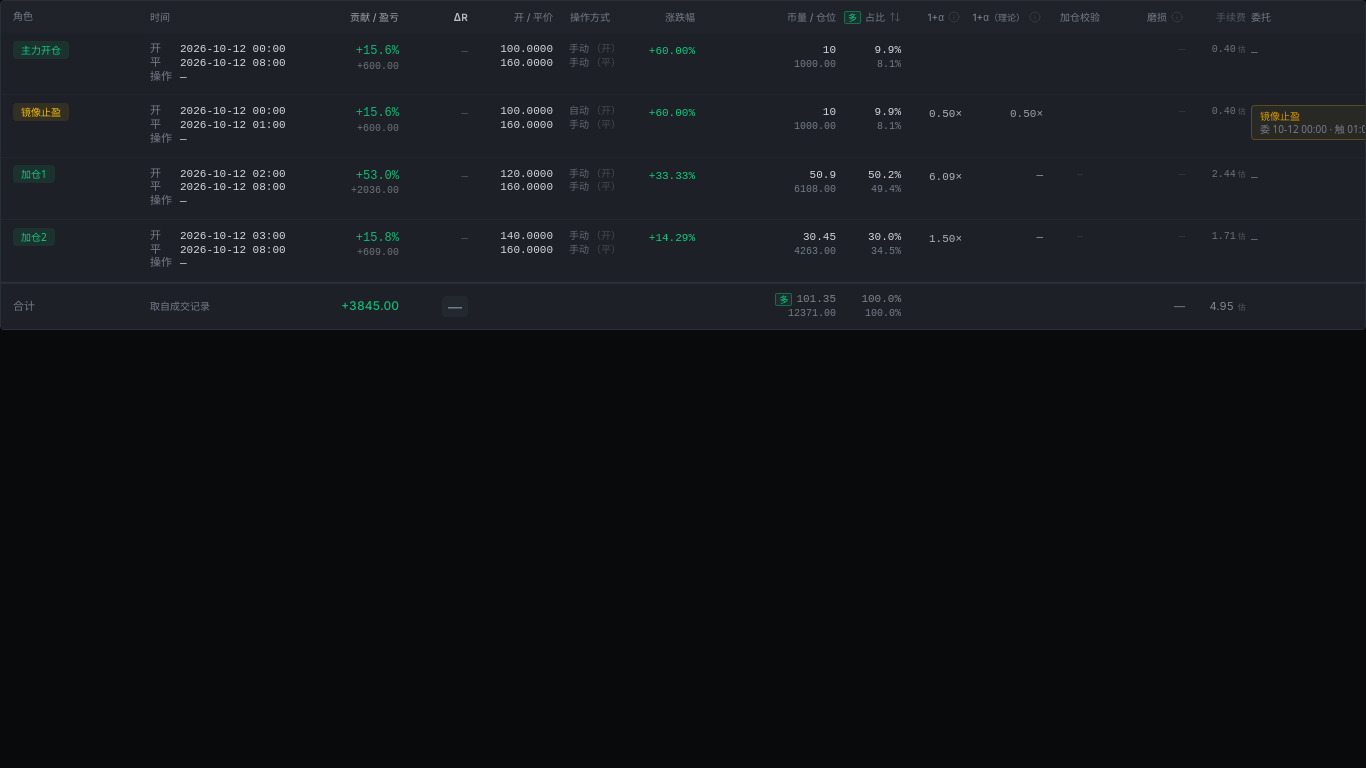
Test case: Legs per-add geometric factor › clicking each actual factor opens its own substituted process; close and sorting preserve row identity
What coordinates should you click on to do the following:
click the button "6.09×"
I would click on:
 (934, 177)
Its box is 906,168 -> 962,187.
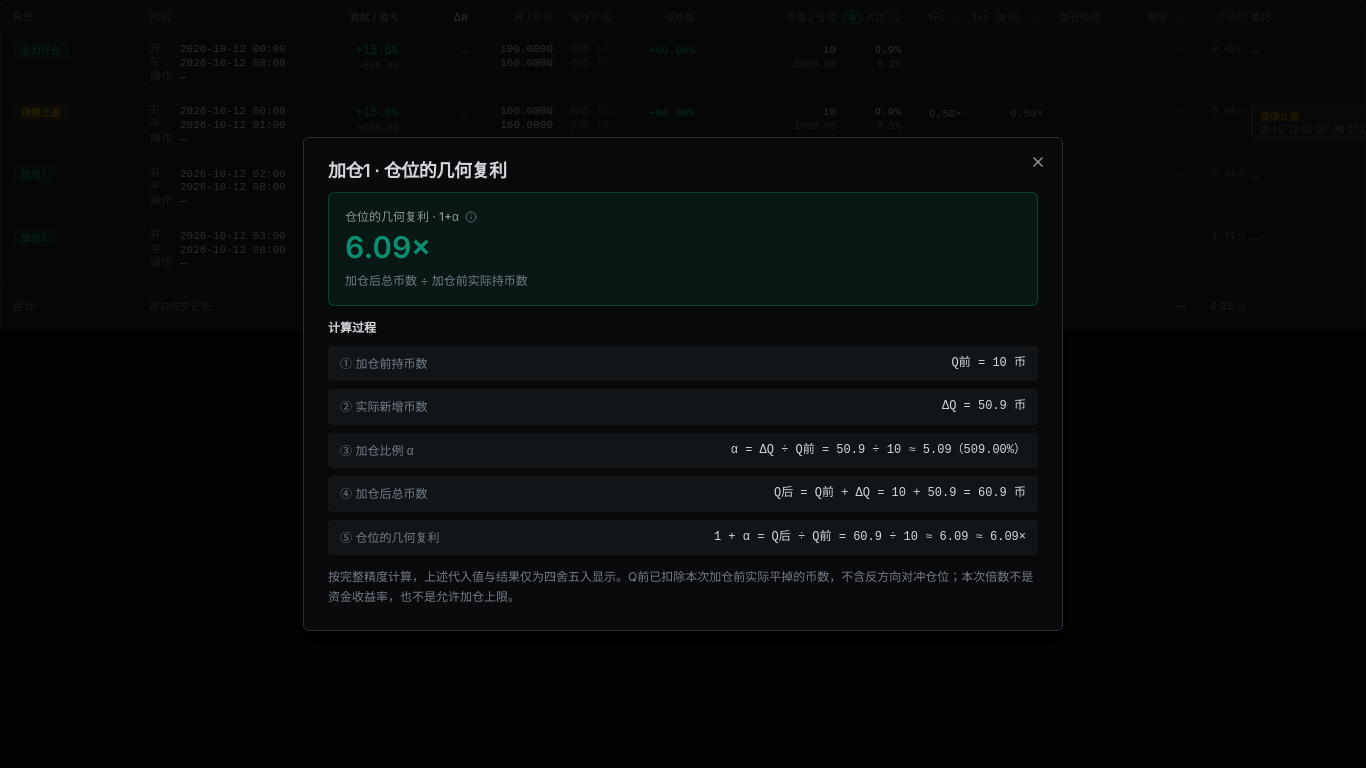
Expected: the heading reads "加仓1 · 仓位的几何复利", 328,160 -> 507,181
Expected: the dialog with test id "leg-geometric-factor-detail-dialog" shows "Q前 = 10 币", 952,356 -> 1026,370
Expected: the dialog with test id "leg-geometric-factor-detail-dialog" shows "ΔQ = 50.9 币", 942,399 -> 1026,413
What coordinates should you click on to do the following:
click the button named "关闭"
I would click on:
 (1038, 162)
Its box is 1030,154 -> 1046,170.
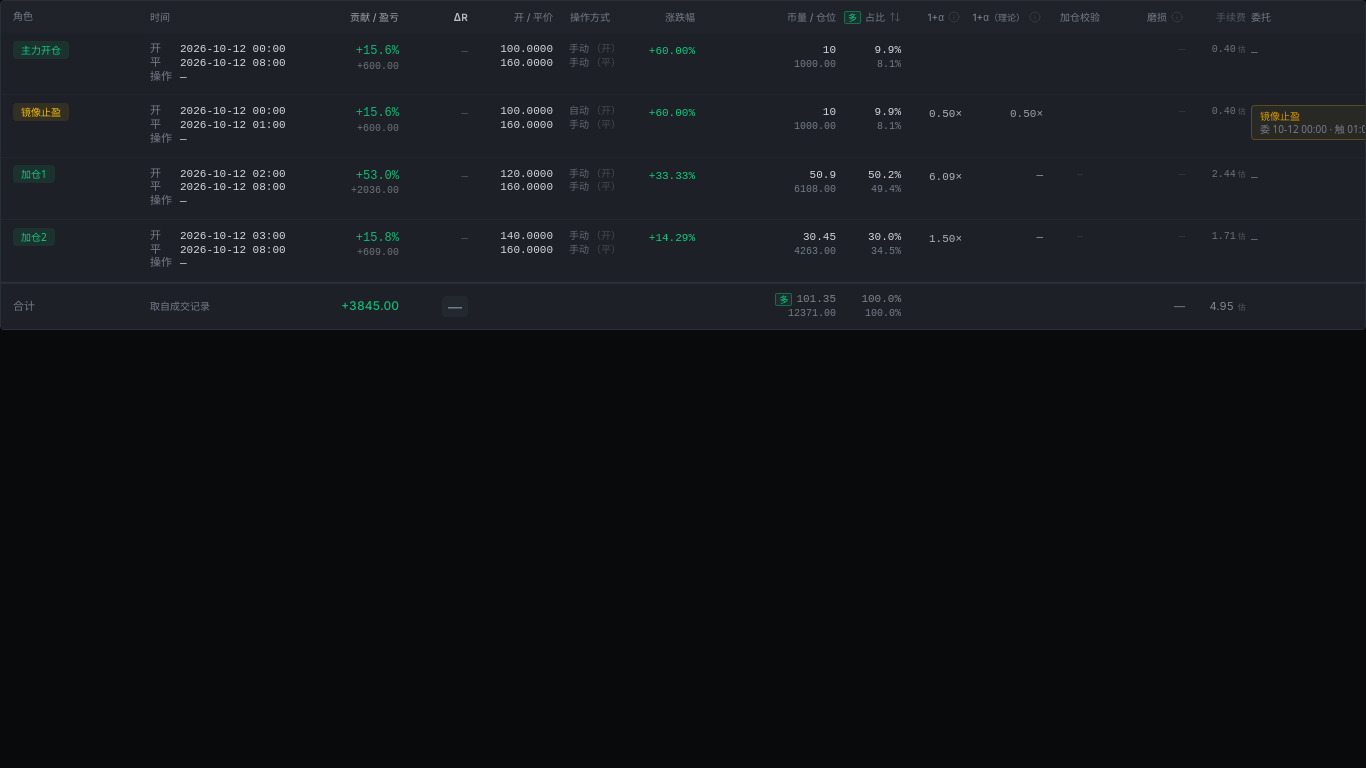
Expected: the dialog with test id "leg-geometric-factor-detail-dialog" is gone
What coordinates should you click on to do the following:
click the button with aria-label "按多单占比排序"
I would click on:
 (871, 17)
Its box is 841,10 -> 901,24.
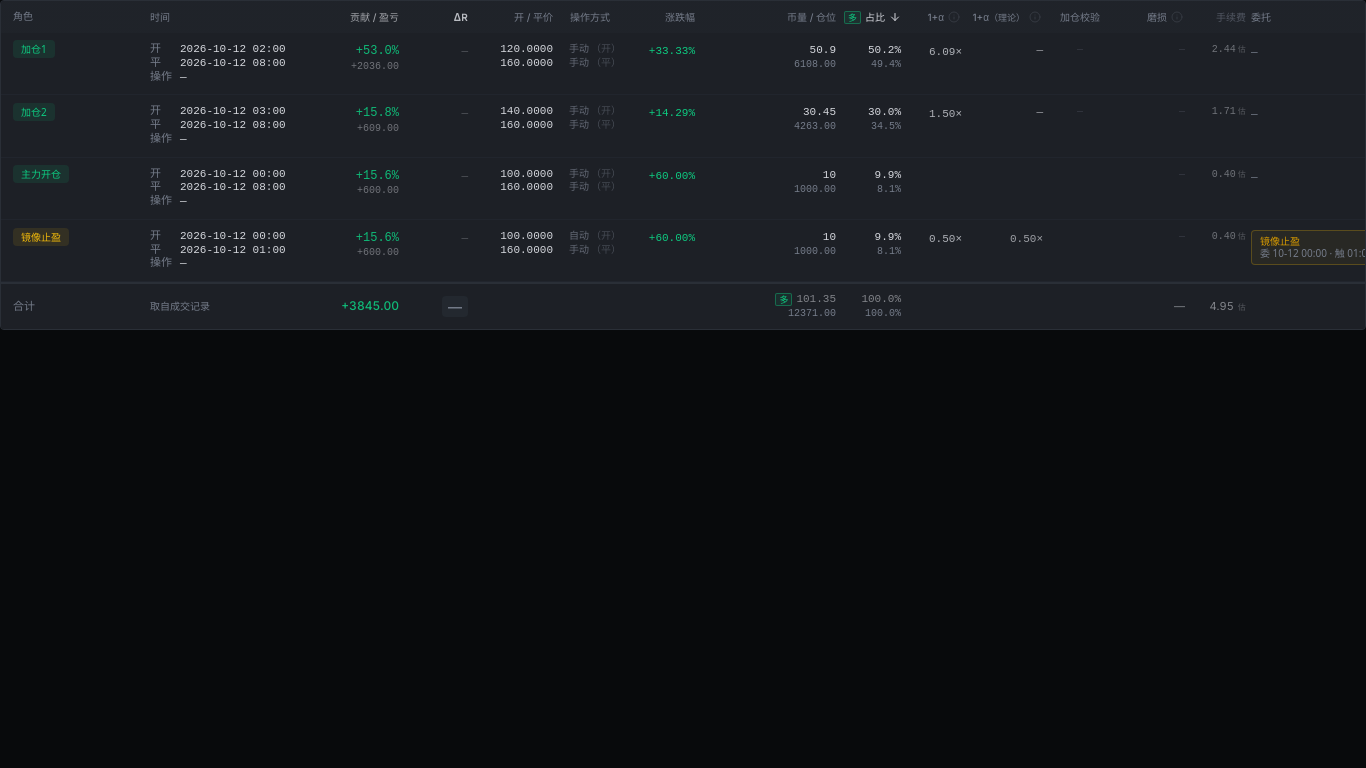
What coordinates should you click on to do the following:
click the button "1.50×"
I would click on:
 (934, 115)
Its box is 906,105 -> 962,124.
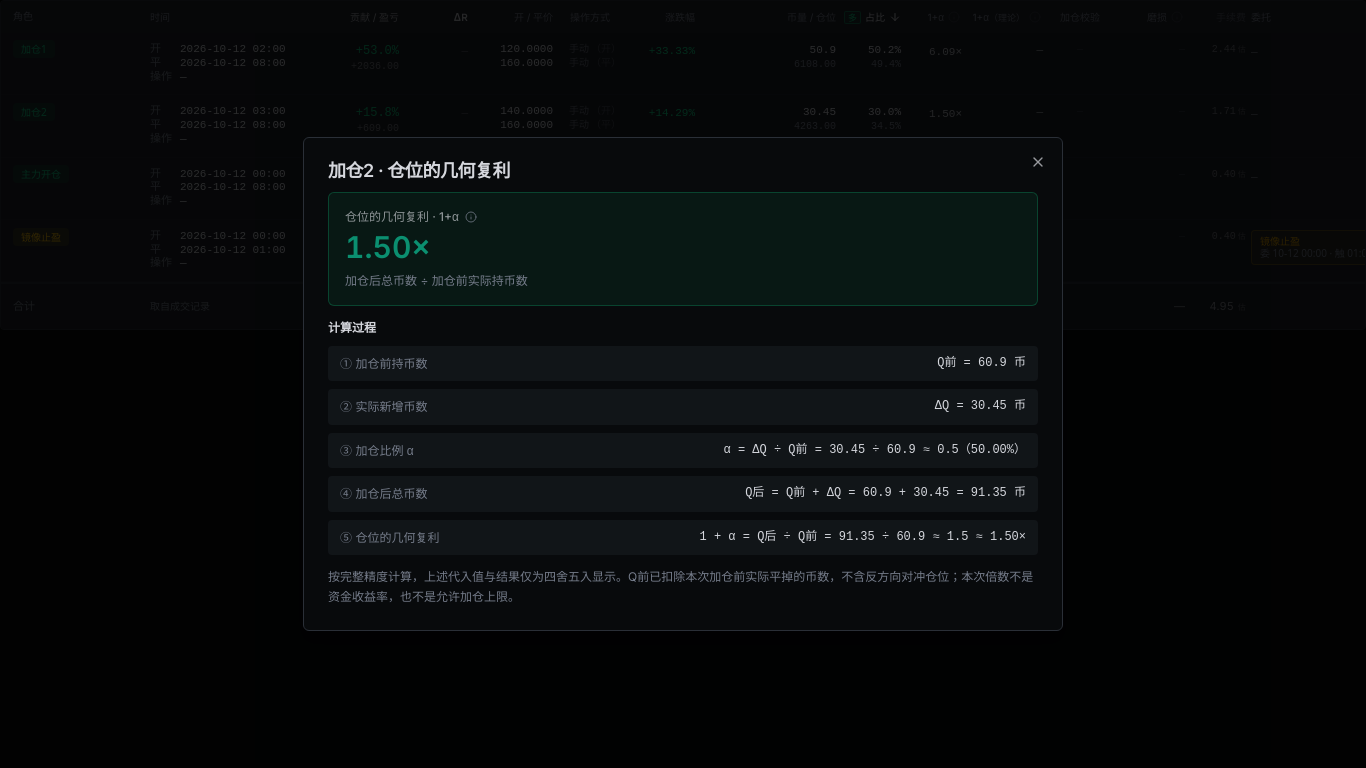
Expected: the heading reads "加仓2 · 仓位的几何复利", 328,160 -> 510,181
Expected: the dialog with test id "leg-geometric-factor-detail-dialog" shows "Q前 = 60.9 币", 937,356 -> 1026,370
Expected: the dialog with test id "leg-geometric-factor-detail-dialog" shows "ΔQ = 30.45 币", 935,399 -> 1026,413
